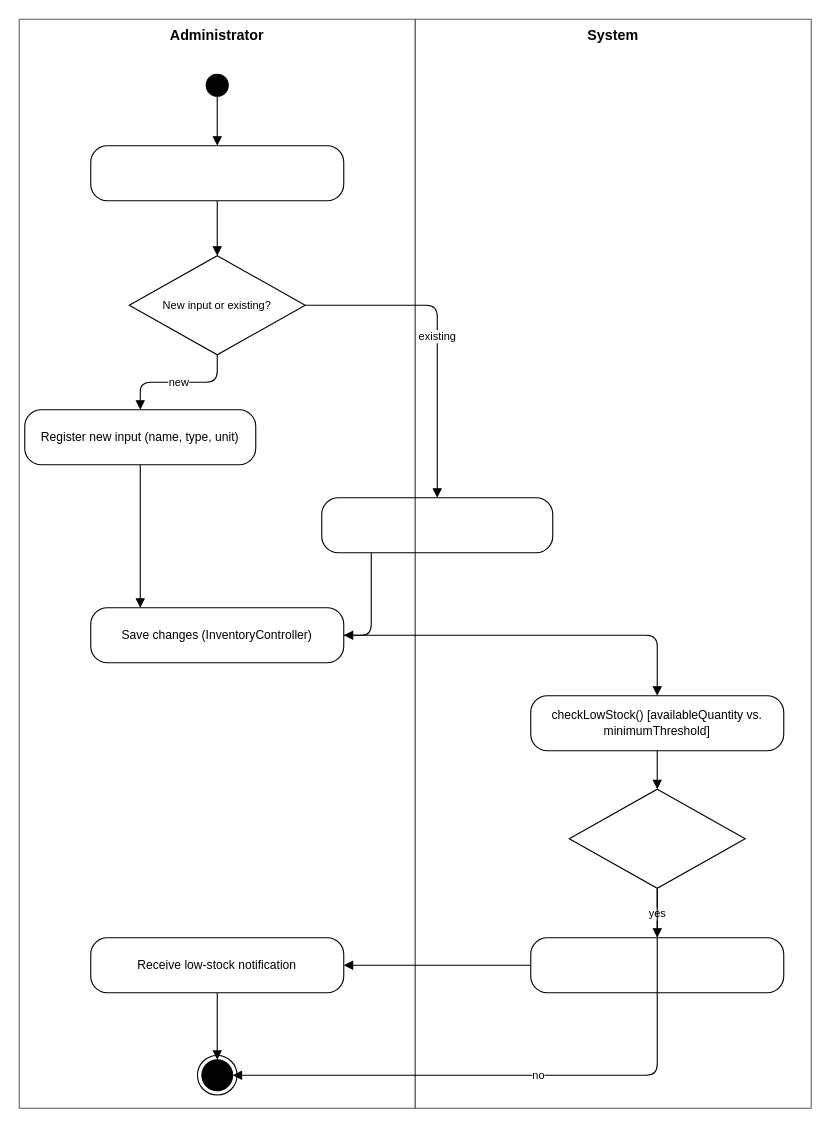
Some shapes in this 831 by 1128 pixel diagram are drawn without their labels. The box of each missing label's shape, as (x1, y1, x2, y2) in pixels:
Below threshold?: (568, 788, 745, 888)
Generate Alert (RF-16, triggered by InventoryItem): (530, 937, 784, 993)
Open Inventory module (RF-06): (90, 145, 344, 201)
Update available quantity: (321, 497, 553, 553)
